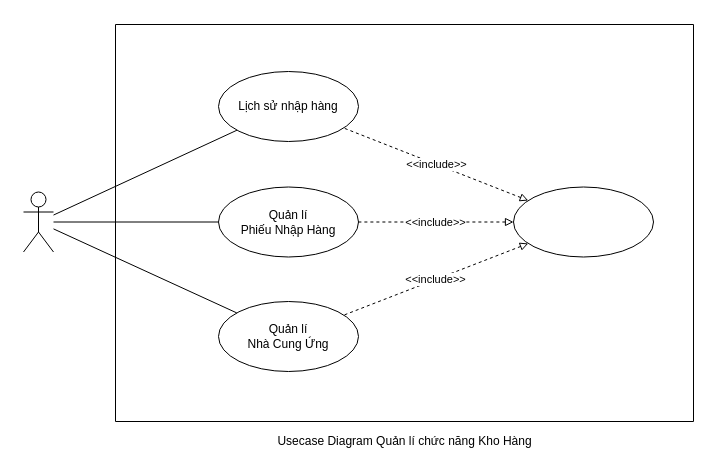
The diagram is 711 pixels wide and 469 high, and some of its shapes have lost their labels. The centre of each missing label's shape, as x and y in pixels:
Quản trị: (38,221)
Đăng nhập: (583,221)
